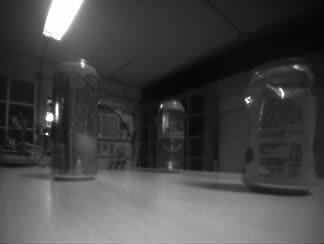Tin can: (238, 57, 319, 195), (48, 56, 103, 181), (155, 99, 187, 174)
